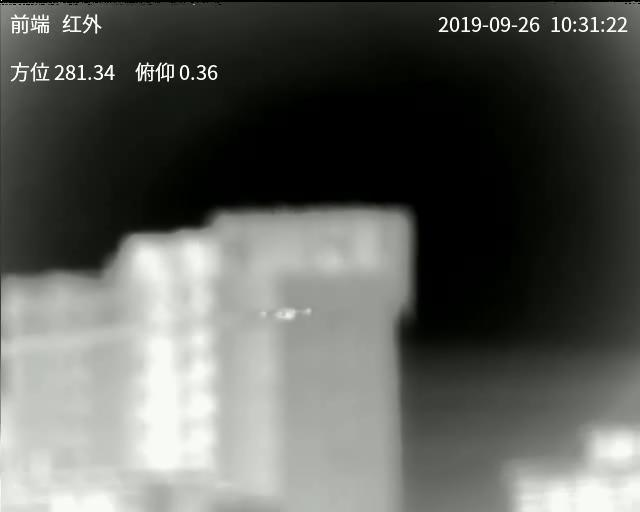uav: (253, 301, 312, 325)
